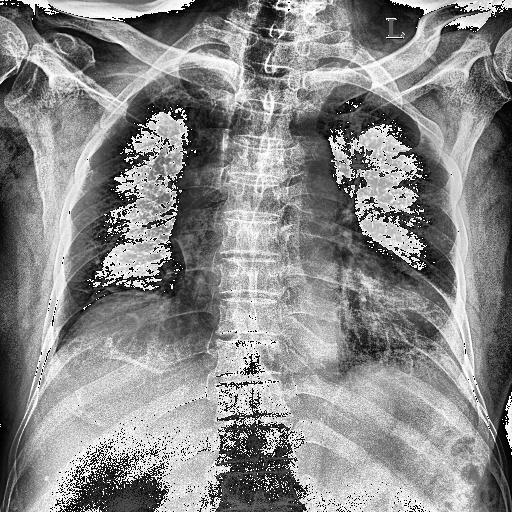5- ILD: (53, 48, 211, 335), (336, 104, 468, 370), (349, 171, 453, 376), (67, 190, 174, 336)
7- Lung Opacity: (338, 256, 468, 394)
